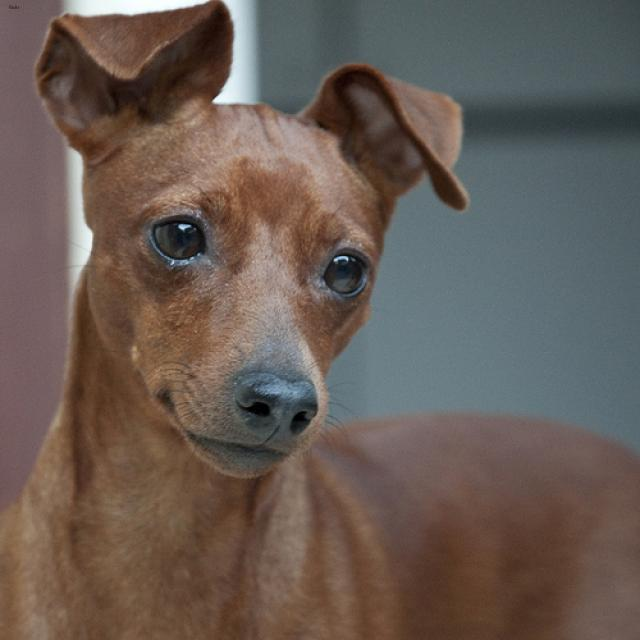dog-miniature_pinscher: (1, 1, 637, 637)
